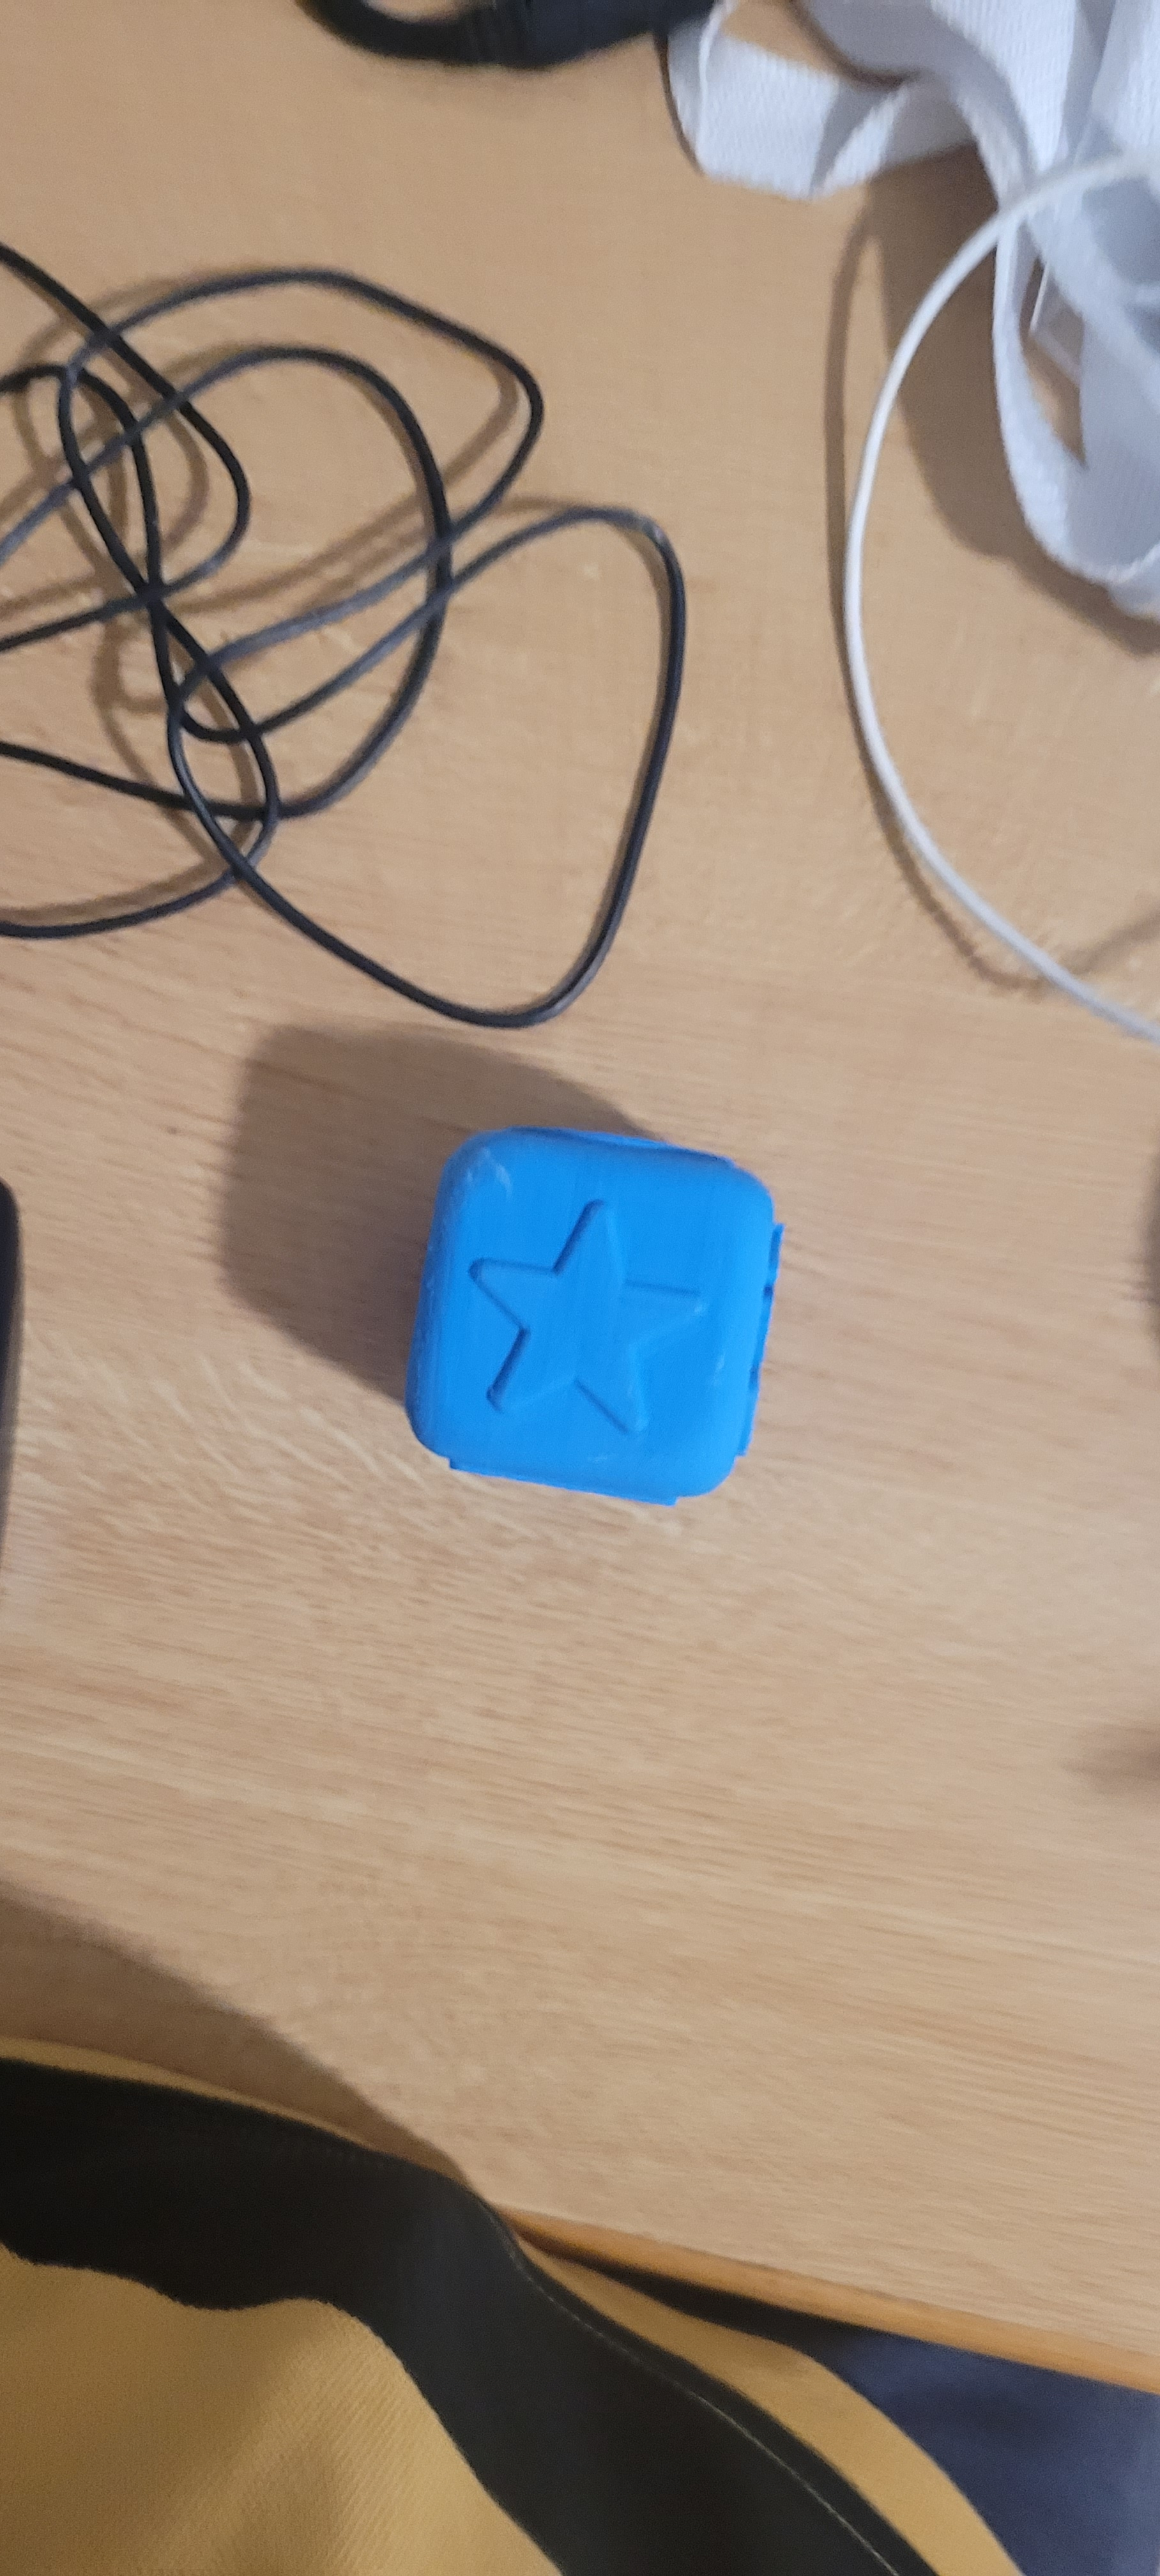Star: (419, 1166, 774, 1451)
